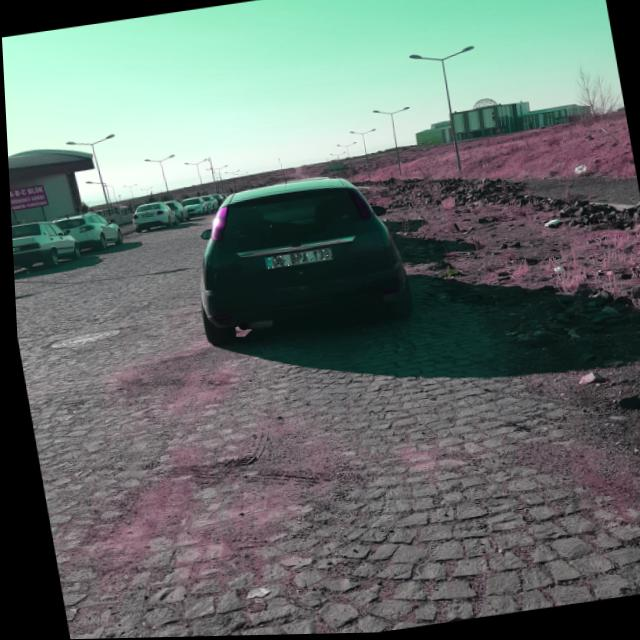license_plate: (261, 249, 330, 270)
